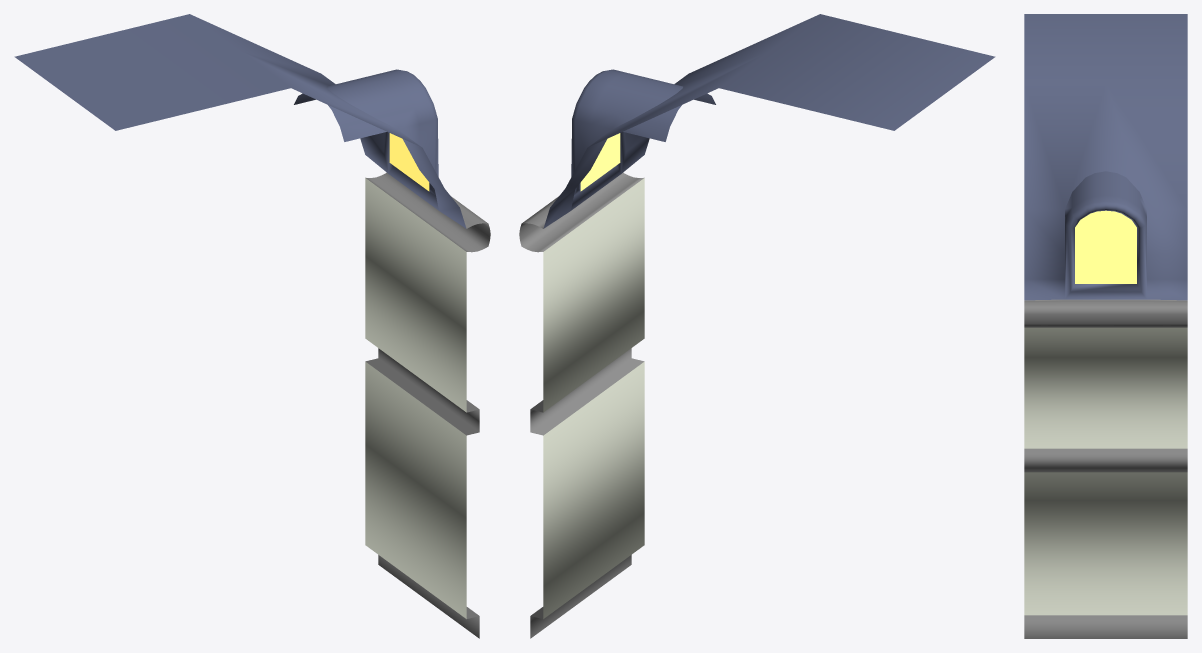
File: TEST roof.glb
3 renders of one model, left to right at view 1: azimuth 30°, elevation 25°; view 2: azimuth 150°, elevation 25°; view 3: azimuth 270°, elevation 25°, orthographic. The views are drawn at different scales.
Visible parts, largest first — view 1: Cube-col; view 2: Cube-col; view 3: Cube-col.
Boxes of the visible parts, x1,y1,x2,y2 form: Cube-col: (14, 14, 490, 638); Cube-col: (519, 14, 995, 638); Cube-col: (1024, 14, 1187, 638).
Bounding box in the file's own units: 8.55 × 13 × 4.
